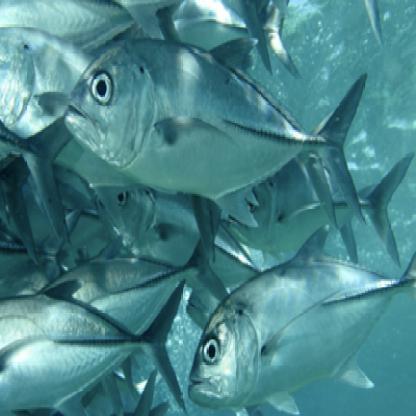jack: (63, 29, 377, 226), (186, 216, 416, 416)
